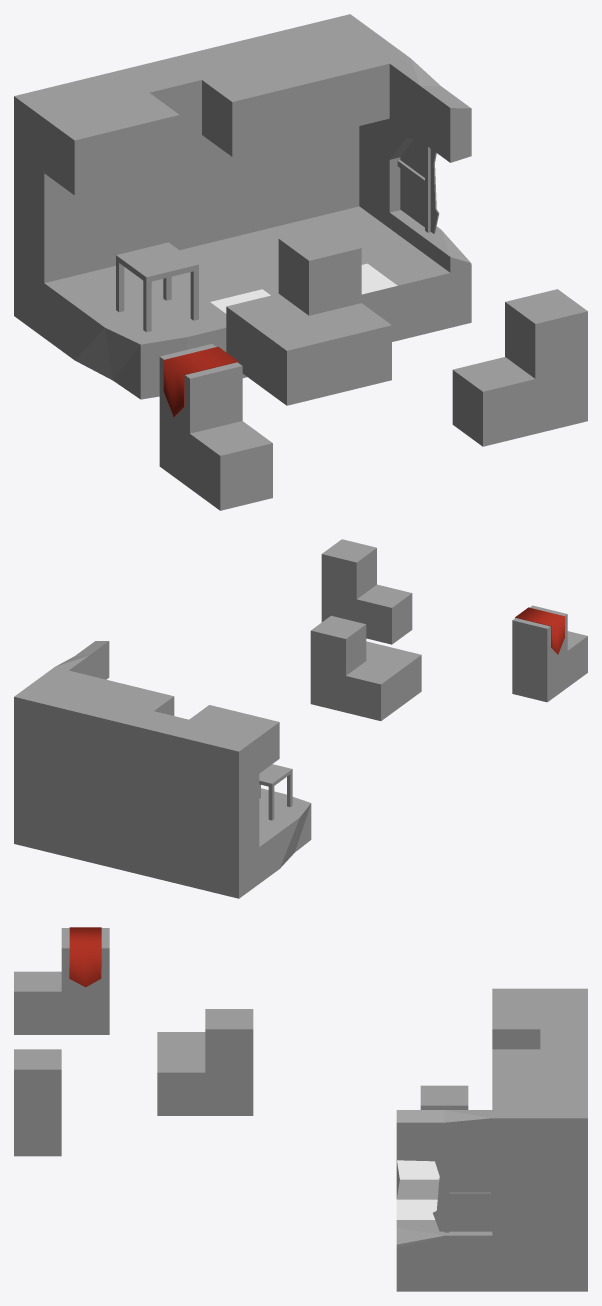
File: cube_gap_env_themed.fbx
3 views of the same model, one above another, from view 1: azimuth 30°, elevation 25°; view 2: azimuth 150°, elevation 25°; view 3: azimuth 270°, elevation 25° (orthographic). The views are drawn at different scales.
Visible parts, largest first — view 1: platform2, platform1, platform5, platform4, table, glass, carpet, window_frame; view 2: platform2, platform1, platform5, platform4, table, carpet; view 3: platform2, platform1, platform4, platform5, glass, carpet, table, window_frame.
Boxes of the visible parts, x1,y1,x2,y2 form: platform2: (14, 14, 471, 399); platform1: (226, 226, 391, 405); platform5: (452, 289, 587, 446); platform4: (159, 344, 272, 510); table: (116, 242, 198, 332); glass: (400, 139, 439, 233); carpet: (163, 347, 238, 417); window_frame: (397, 144, 430, 232); platform2: (14, 641, 311, 898); platform1: (310, 615, 421, 720); platform5: (321, 539, 412, 644); platform4: (512, 605, 587, 702); table: (259, 764, 292, 820); carpet: (515, 607, 564, 654); platform2: (396, 988, 587, 1291); platform1: (157, 1009, 253, 1115); platform4: (14, 928, 109, 1034); platform5: (14, 1049, 61, 1156); glass: (433, 1161, 492, 1231); carpet: (69, 927, 101, 987); table: (420, 1085, 468, 1109); window_frame: (444, 1161, 492, 1232).
Bounding box in the file's own units: 94.22 × 40.1 × 120.
